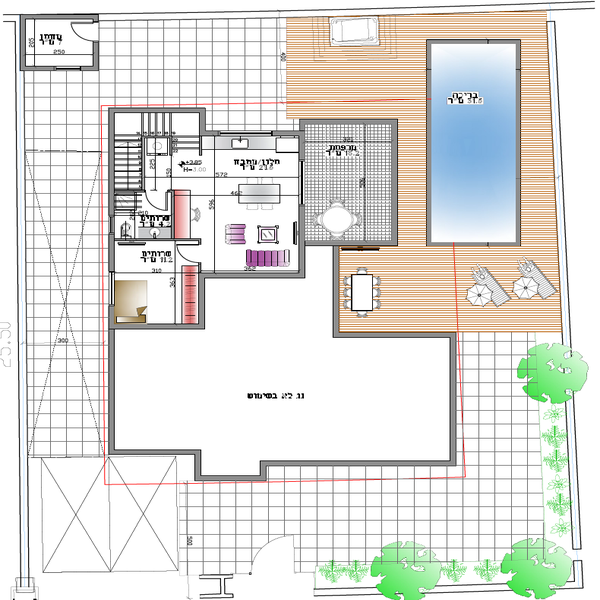door: (176, 239, 212, 271), (140, 184, 170, 217)
room: (103, 324, 462, 468), (106, 100, 208, 331), (197, 126, 310, 280), (299, 114, 398, 250)
wall: (260, 459, 456, 467), (516, 44, 523, 244), (107, 304, 116, 454), (391, 117, 400, 246), (300, 118, 387, 130), (108, 103, 114, 273), (109, 104, 206, 114), (431, 35, 520, 45), (114, 322, 202, 332), (334, 331, 458, 338), (427, 241, 522, 250), (331, 243, 340, 337), (426, 37, 430, 247), (114, 448, 201, 457), (299, 241, 396, 247), (197, 475, 264, 482), (19, 14, 27, 69), (170, 188, 177, 243), (25, 67, 99, 72), (26, 14, 99, 19), (192, 451, 203, 482), (198, 271, 203, 334), (198, 105, 208, 134), (298, 244, 307, 274), (115, 238, 199, 241), (300, 132, 305, 157), (302, 197, 305, 238)
